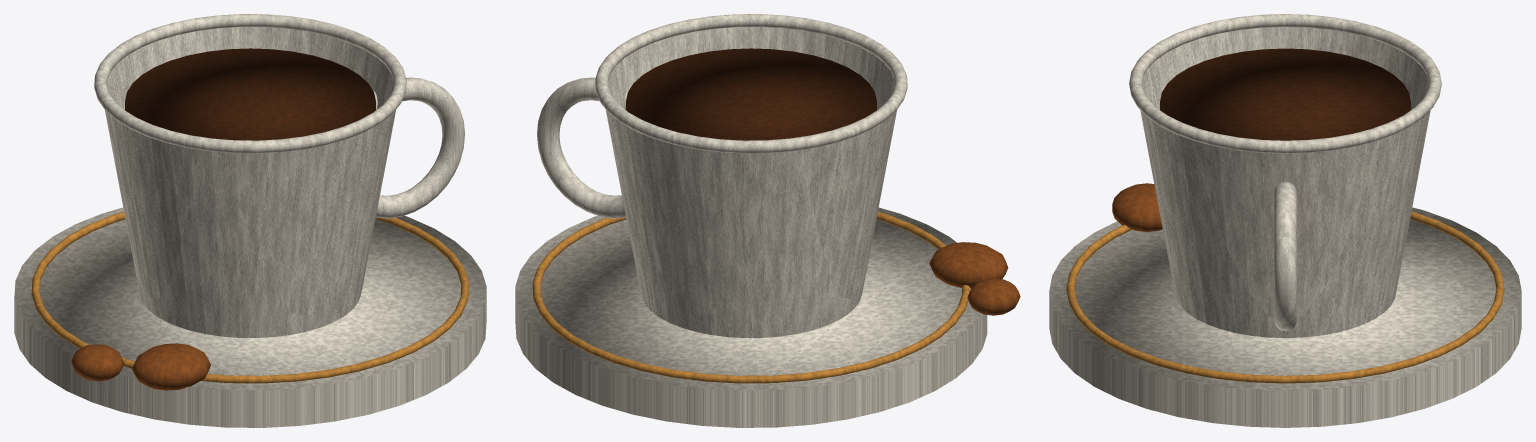
Rendered from cafe-campesino.glb.
3 views of the same model, side by side, from view 1: azimuth 30°, elevation 25°; view 2: azimuth 150°, elevation 25°; view 3: azimuth 270°, elevation 25° (orthographic).
Visible parts, largest first — view 1: porcelain, campesino, gold, panela; view 2: porcelain, campesino, gold, panela; view 3: porcelain, campesino, gold, panela.
Part boxes in pixels (bbox=[...]): porcelain: bbox=[14, 14, 486, 427]; campesino: bbox=[125, 48, 375, 140]; gold: bbox=[31, 211, 469, 383]; panela: bbox=[71, 343, 210, 390]; porcelain: bbox=[515, 14, 987, 427]; campesino: bbox=[626, 48, 876, 140]; gold: bbox=[532, 211, 970, 383]; panela: bbox=[929, 242, 1020, 315]; porcelain: bbox=[1049, 14, 1521, 427]; campesino: bbox=[1160, 48, 1410, 140]; gold: bbox=[1066, 211, 1504, 383]; panela: bbox=[1112, 183, 1162, 231].
Bounding box in the file's own units: 0.3069 × 0.1695 × 0.29.
4 materials, 4 textured.
